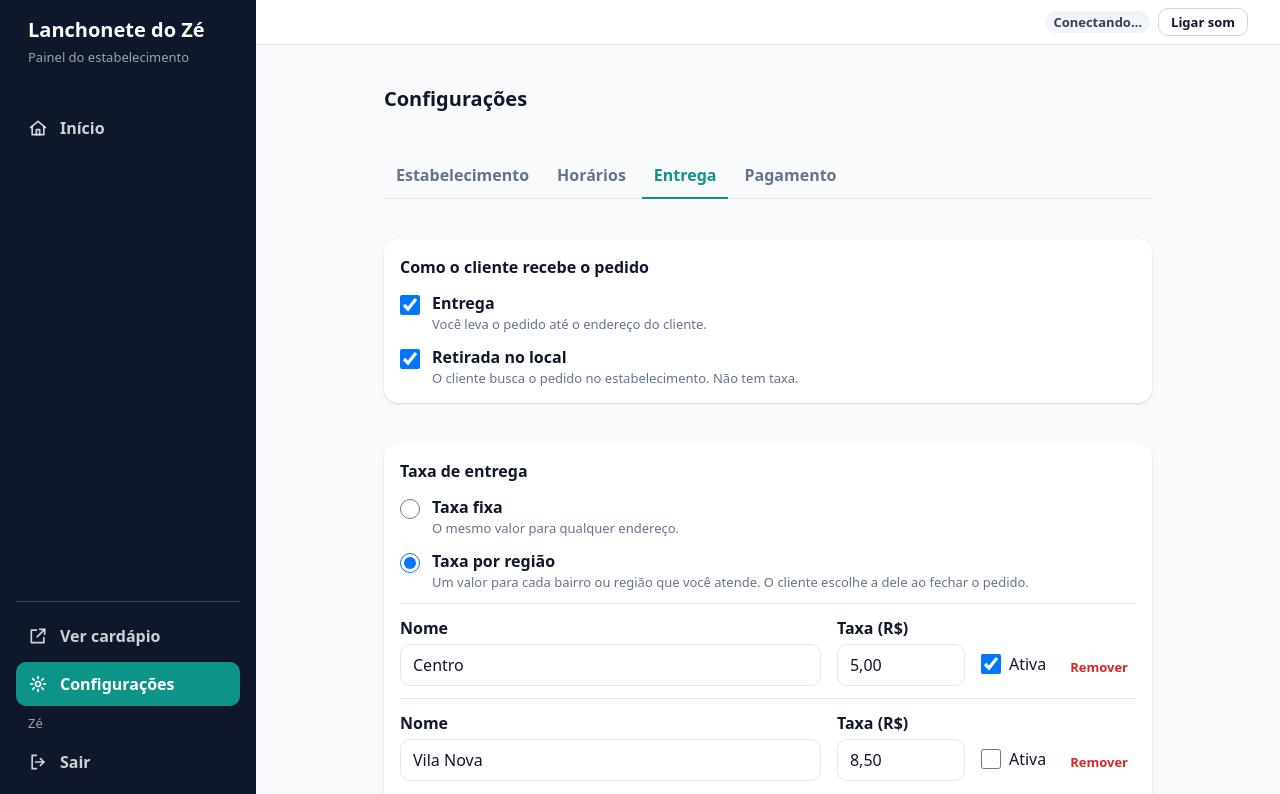
it: aba de entrega › taxa por região: mostra as cadastradas, acrescenta, remove e grava na ordem
Expected: the 1st field labelled "Nome" holds "Centro", [400, 644, 821, 686]
Expected: the 1st field labelled "Taxa (R$)" holds "5,00", [837, 644, 965, 686]
Click the button with aria-label "Remover a região 1" at (1099, 667), box [1062, 652, 1136, 682]
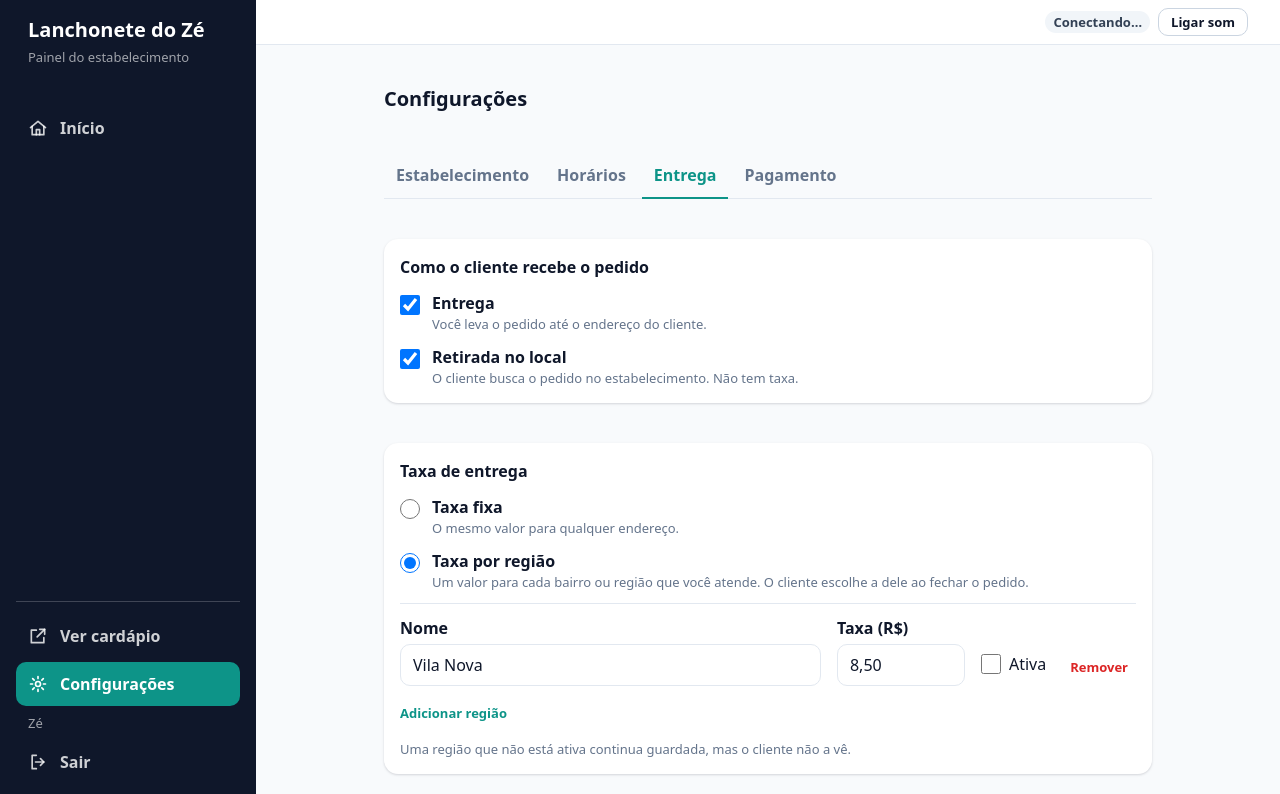
Click the button "Adicionar região" at (454, 713), box [392, 698, 515, 728]
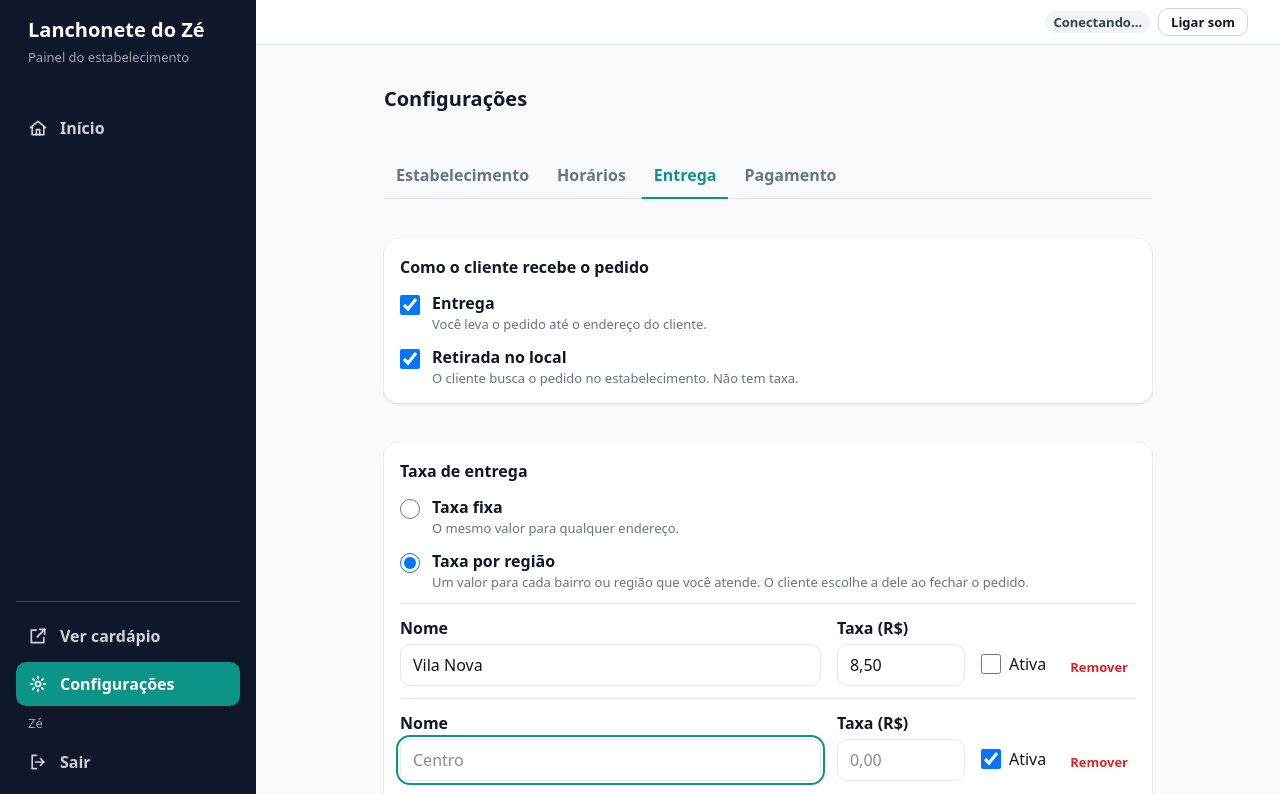
Type "Jardim" into the 2nd field labelled "Nome" at (610, 760), box [400, 739, 821, 781]
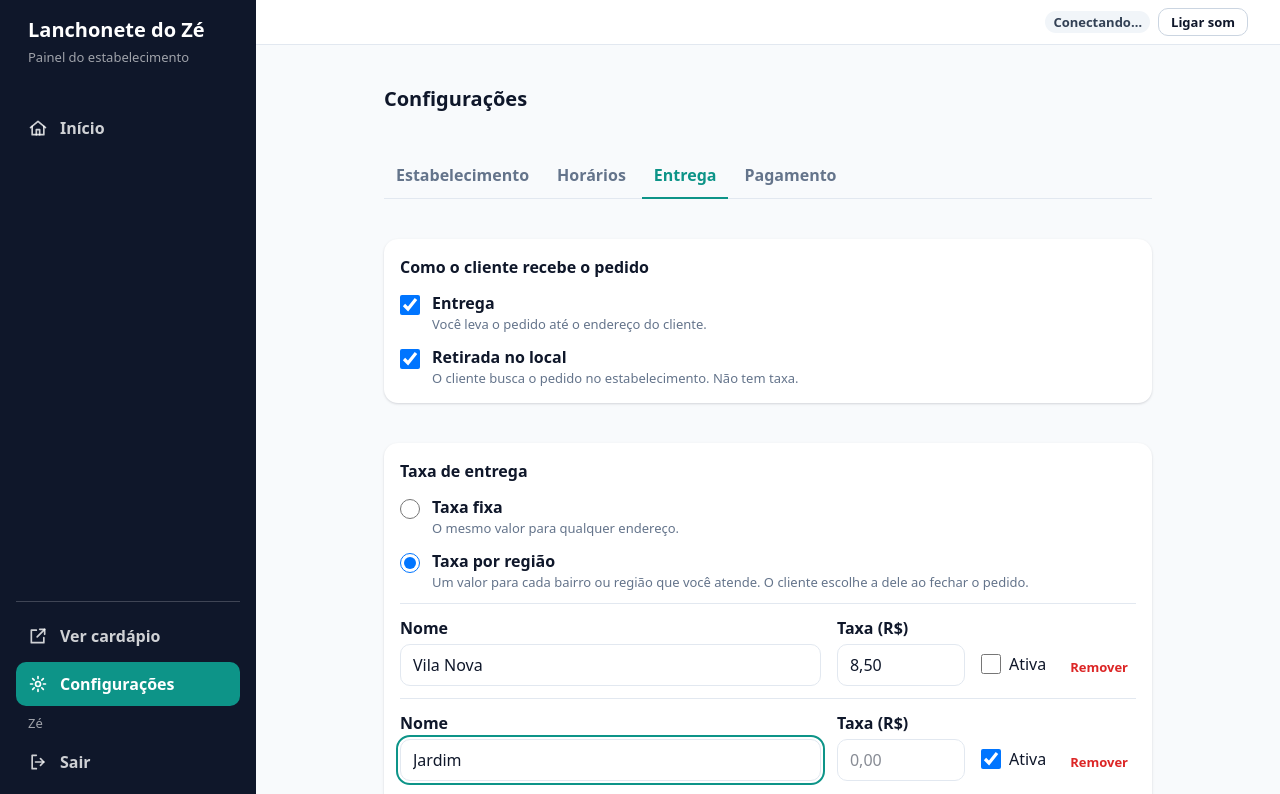
Type "12" into the 2nd field labelled "Taxa (R$)" at (901, 760), box [837, 739, 965, 781]
(page scrolled)
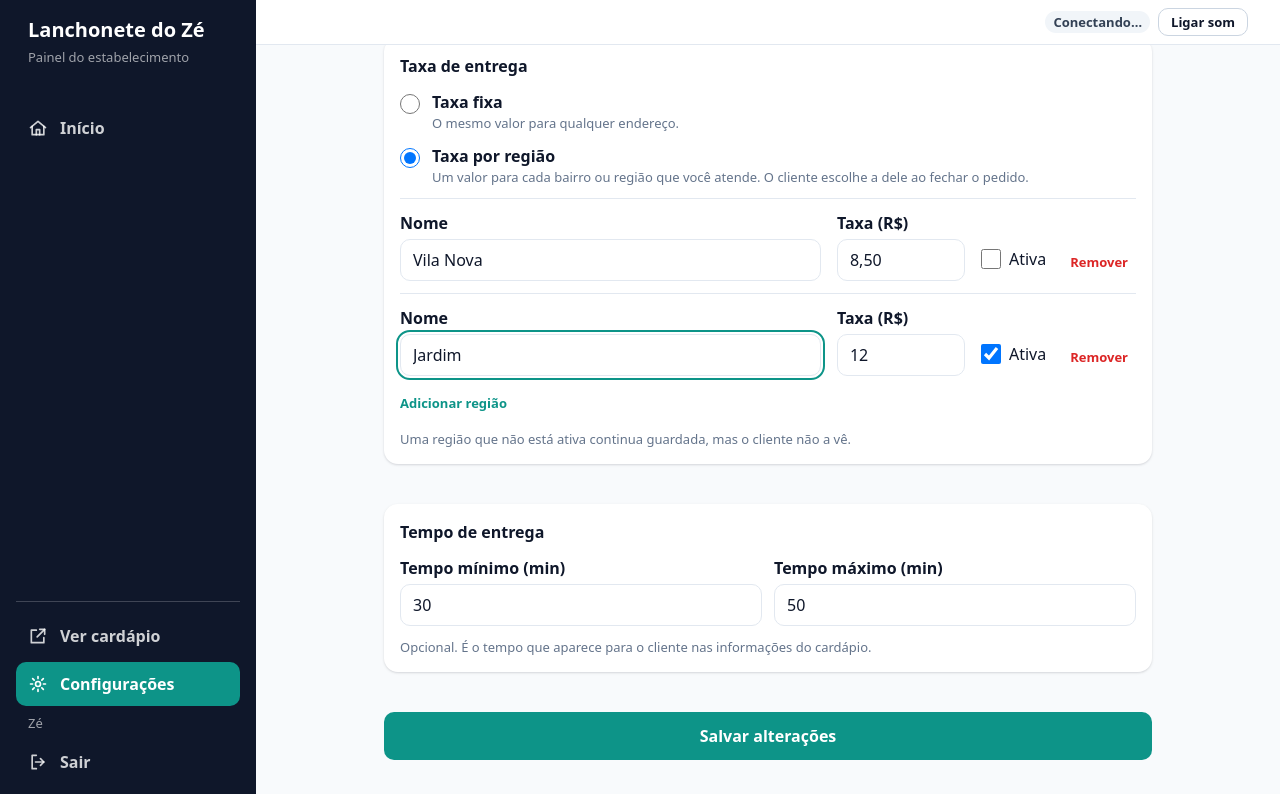
Click the button "Salvar alterações" at (768, 736), box [384, 712, 1152, 760]
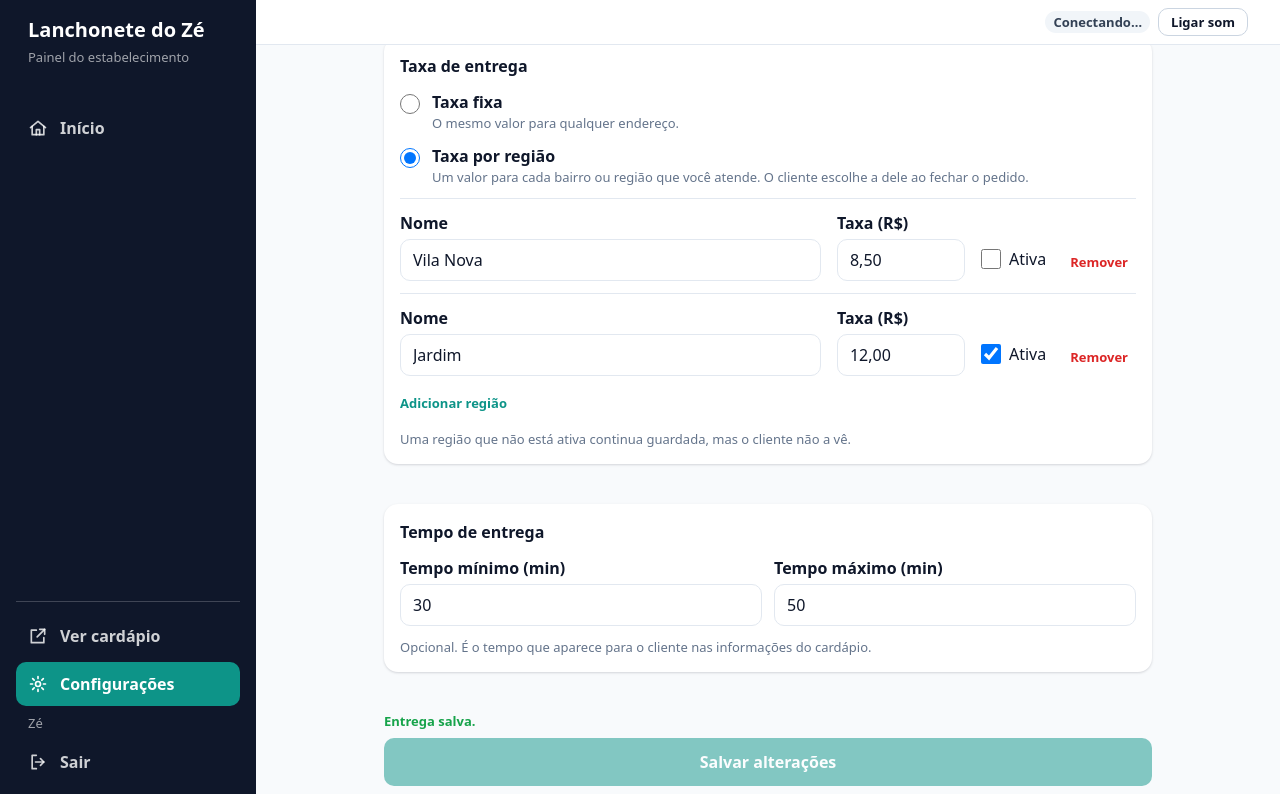
Expected: the text "Entrega salva." is shown, [384, 712, 476, 730]
